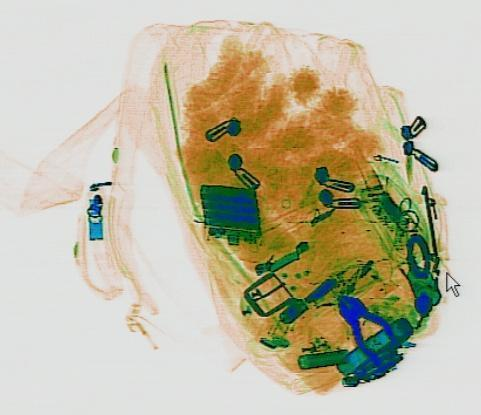Pliers: (320, 286, 414, 372)
